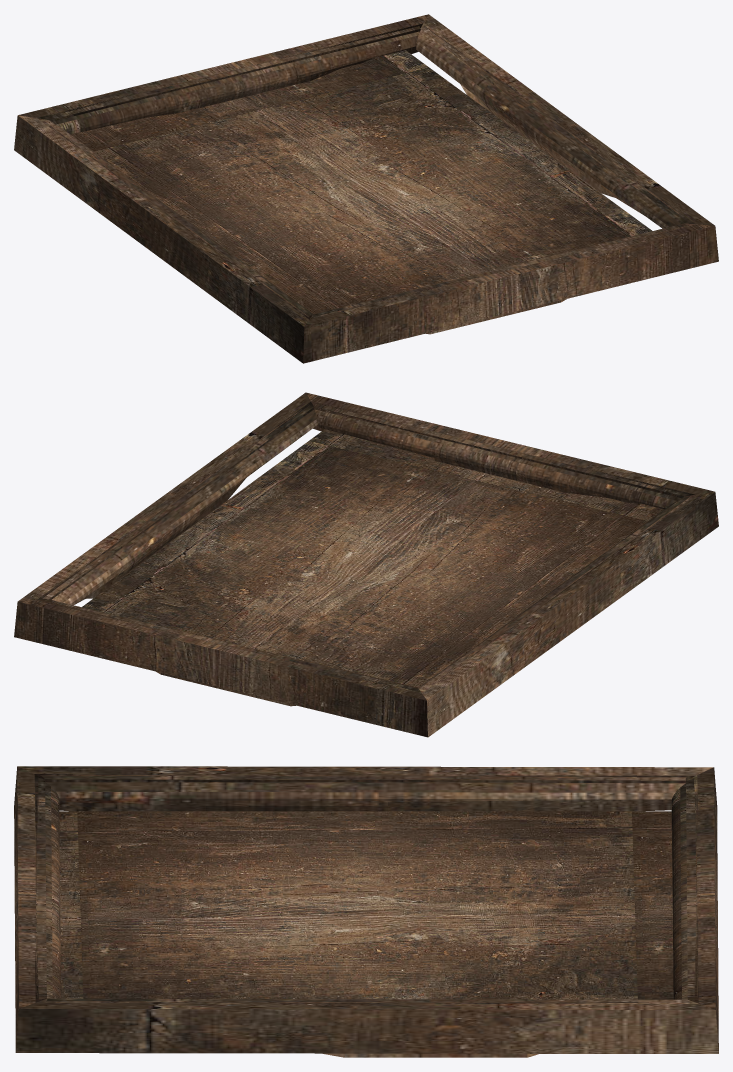
File: Frame.fbx
The picture shows the model from 3 angles, top to bottom: view 1: azimuth 30°, elevation 25°; view 2: azimuth 150°, elevation 25°; view 3: azimuth 270°, elevation 25°; orthographic projection. The views are drawn at different scales.
Visible parts, largest first — view 1: Plane, Frame; view 2: Plane, Frame; view 3: Plane, Frame.
Boxes of the visible parts, x1,y1,x2,y2 form: Plane: (71,50,652,314); Frame: (14,14,718,363); Plane: (82,429,664,688); Frame: (14,392,718,737); Plane: (59,811,673,999); Frame: (14,766,718,1057).
Bounding box in the file's own units: 24.27 × 2.66 × 29.33.
